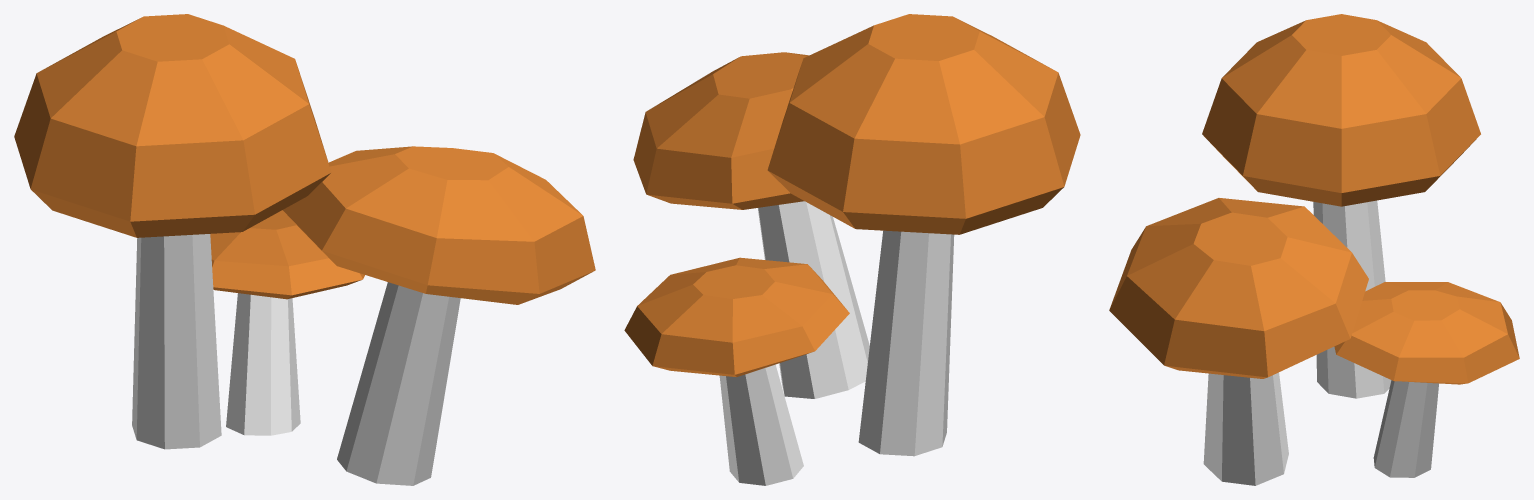
File: Mushroom_04.fbx
The picture shows the model from 3 angles, left to right: view 1: azimuth 30°, elevation 25°; view 2: azimuth 150°, elevation 25°; view 3: azimuth 270°, elevation 25°; orthographic projection. The views are drawn at different scales.
Parts seen in each view (by area): view 1: Mushroom_04; view 2: Mushroom_04; view 3: Mushroom_04.
Part boxes in pixels (x1=…): Mushroom_04: x1=14, y1=14, x2=595, y2=485; Mushroom_04: x1=624, y1=14, x2=1080, y2=485; Mushroom_04: x1=1109, y1=14, x2=1519, y2=485.
Size of the model in its own units: 101 by 89.98 by 88.35.
